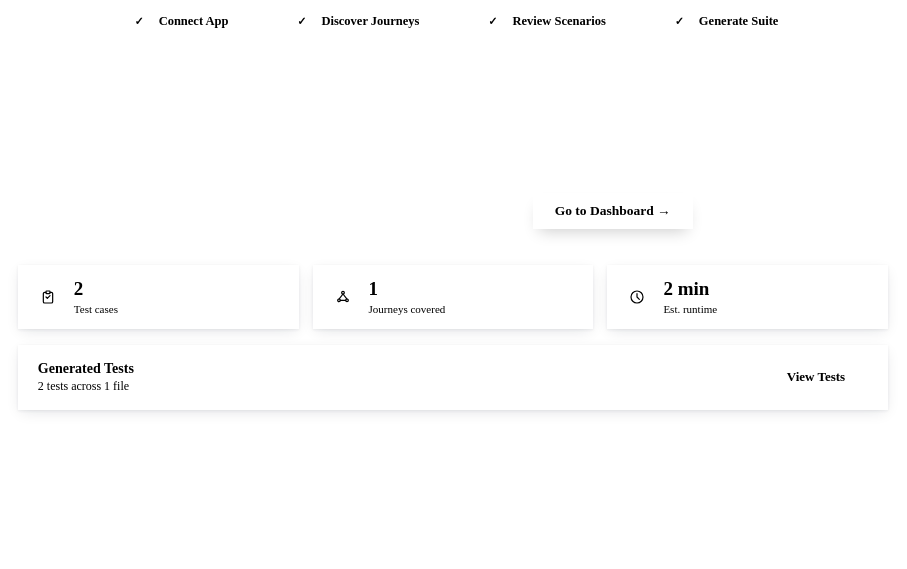
it: TestSuiteResults › toggles test details visibility
What coordinates should you click on to do the following:
click the button "Generated Tests 2 tests across 1 file View Tests"
I would click on:
 (86, 368)
Its box is [18,345,888,410].
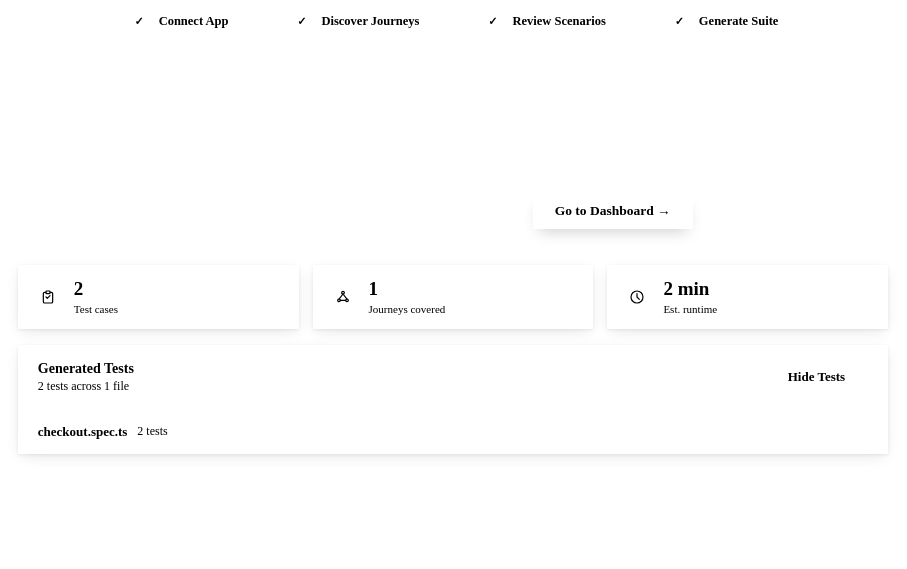
What coordinates should you click on to do the following:
click the button "checkout.spec.ts 2 tests"
I would click on:
 (83, 431)
Its box is [18,410,888,454].
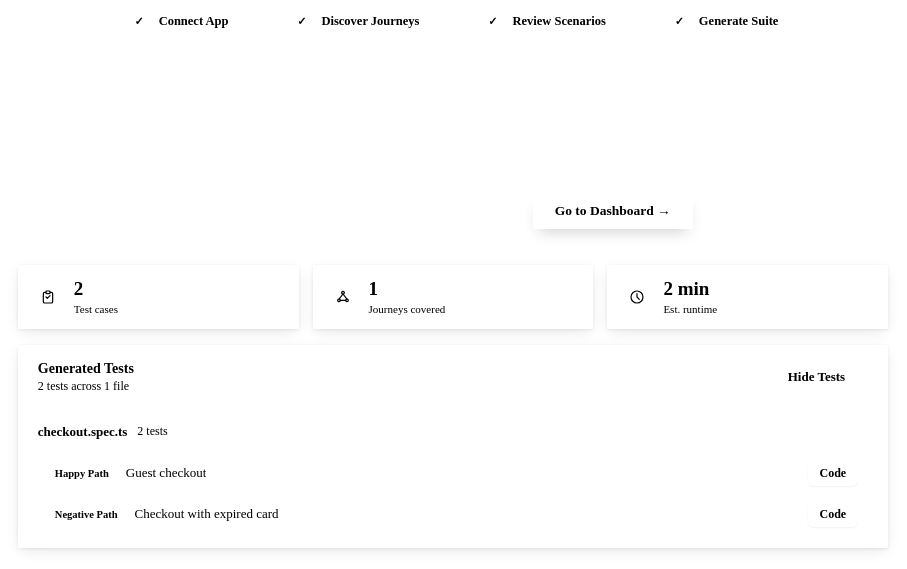
Result: the text "Guest checkout" is shown at [126,465,206,481]
What coordinates should you click on to do the following:
click the button "Generated Tests 2 tests across 1 file Hide Tests"
I would click on:
 (86, 368)
Its box is [18,345,888,410].
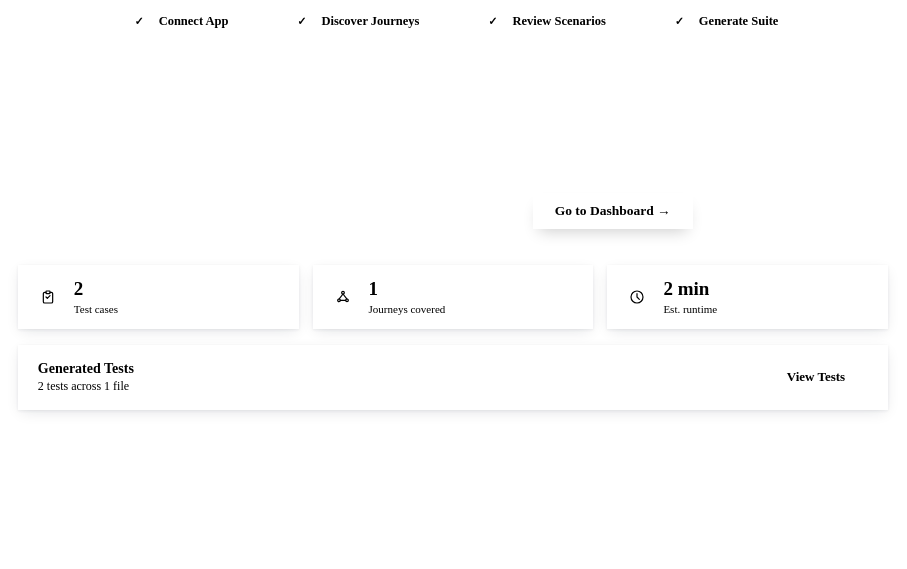
Result: the text "Guest checkout" is gone
Result: the button "checkout.spec.ts" is gone
